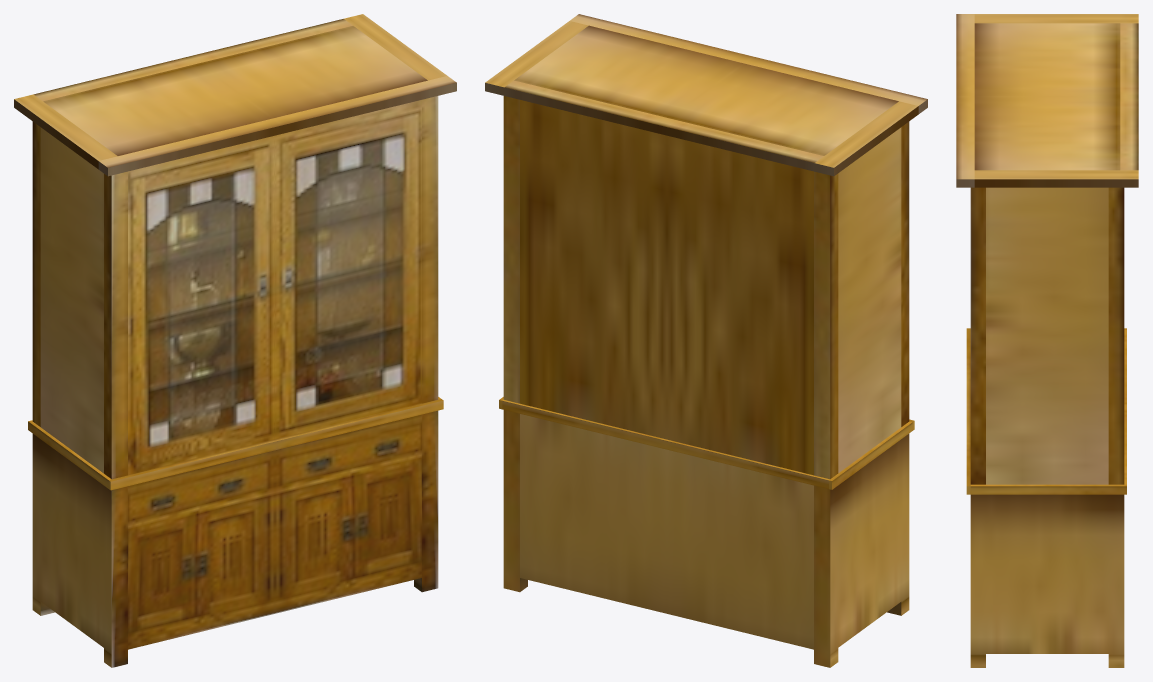
The model's file is Cabinet.fbx.
3 renders of one model, left to right at view 1: azimuth 30°, elevation 25°; view 2: azimuth 150°, elevation 25°; view 3: azimuth 270°, elevation 25°, orthographic. The views are drawn at different scales.
Visible parts, largest first — view 1: Cube; view 2: Cube; view 3: Cube.
Part boxes in pixels (left/top/right/bottom): Cube: left=14, top=14, right=456, bottom=667; Cube: left=485, top=14, right=927, bottom=667; Cube: left=956, top=14, right=1138, bottom=667.
Size of the model in its own units: 510 by 709 by 238.
Materials: 1 (1 with a texture image).
